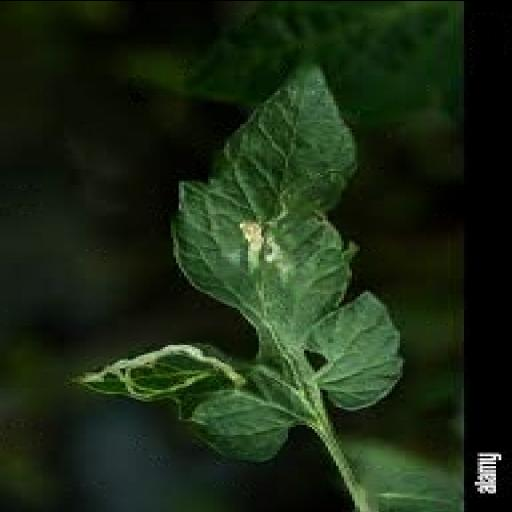disease_tomato: (62, 54, 410, 464)
